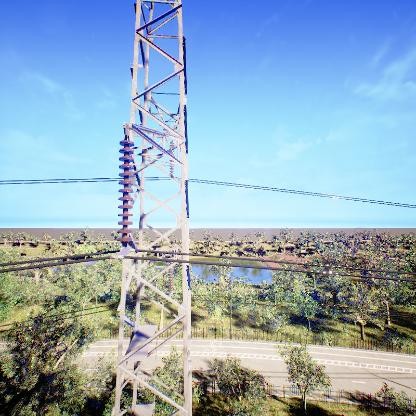insulator: (117, 137, 137, 245)
